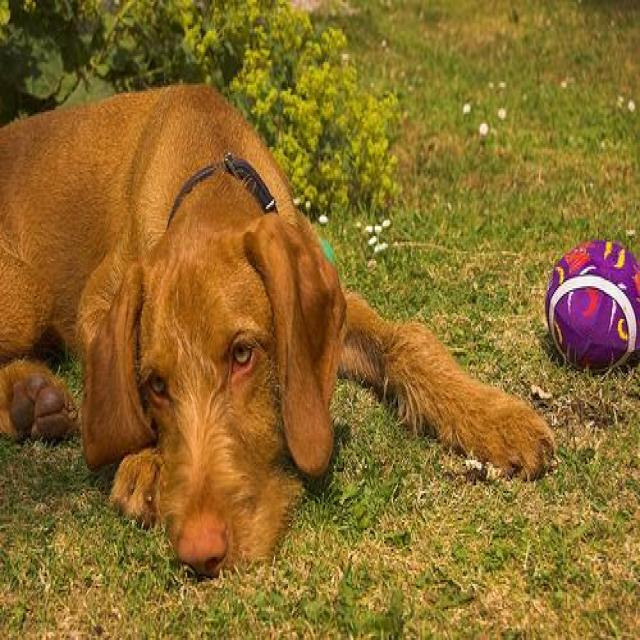vizsla: (0, 83, 554, 574)
